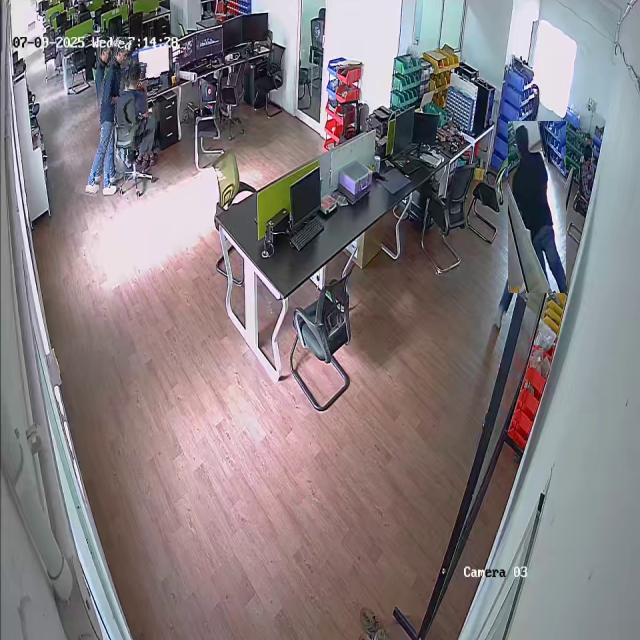person: (508, 121, 566, 293), (83, 36, 126, 198), (119, 62, 158, 166)
